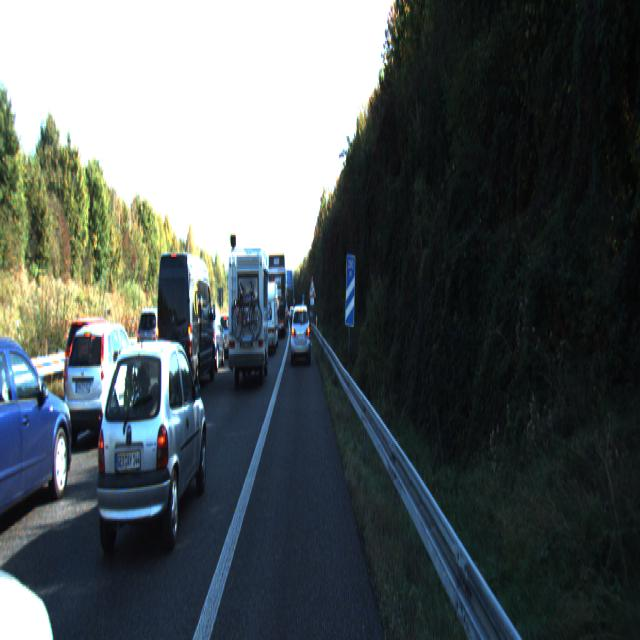Car: (92, 333, 209, 566), (0, 330, 76, 548), (61, 318, 146, 449), (156, 248, 216, 401), (61, 316, 128, 408), (228, 250, 270, 388), (136, 307, 172, 372), (0, 325, 18, 444), (195, 310, 226, 371), (255, 280, 279, 357), (269, 251, 287, 336), (290, 301, 311, 363)
